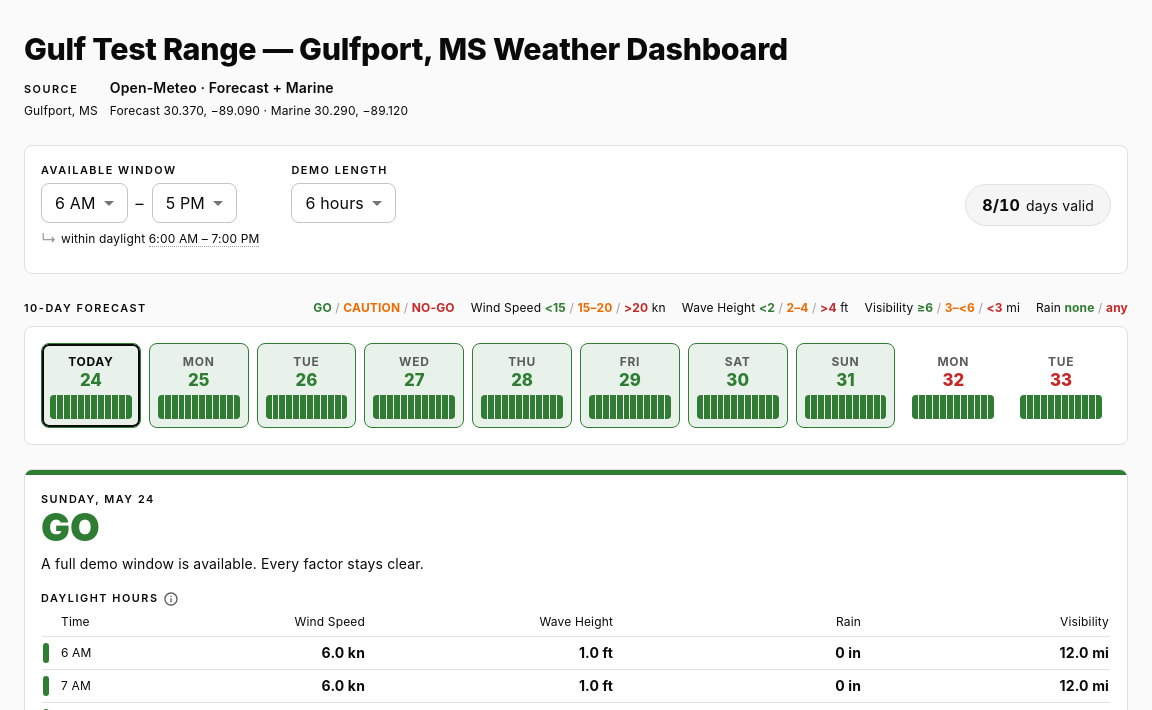
Scenario: Dashboard (via App) › defaults the detail to the first day and switches when another day is clicked
Expected: the text "Sunday, May 24" is shown, [41,492,155,506]
Click the button "TUE 26" at [306, 385], box [257,343,356,428]
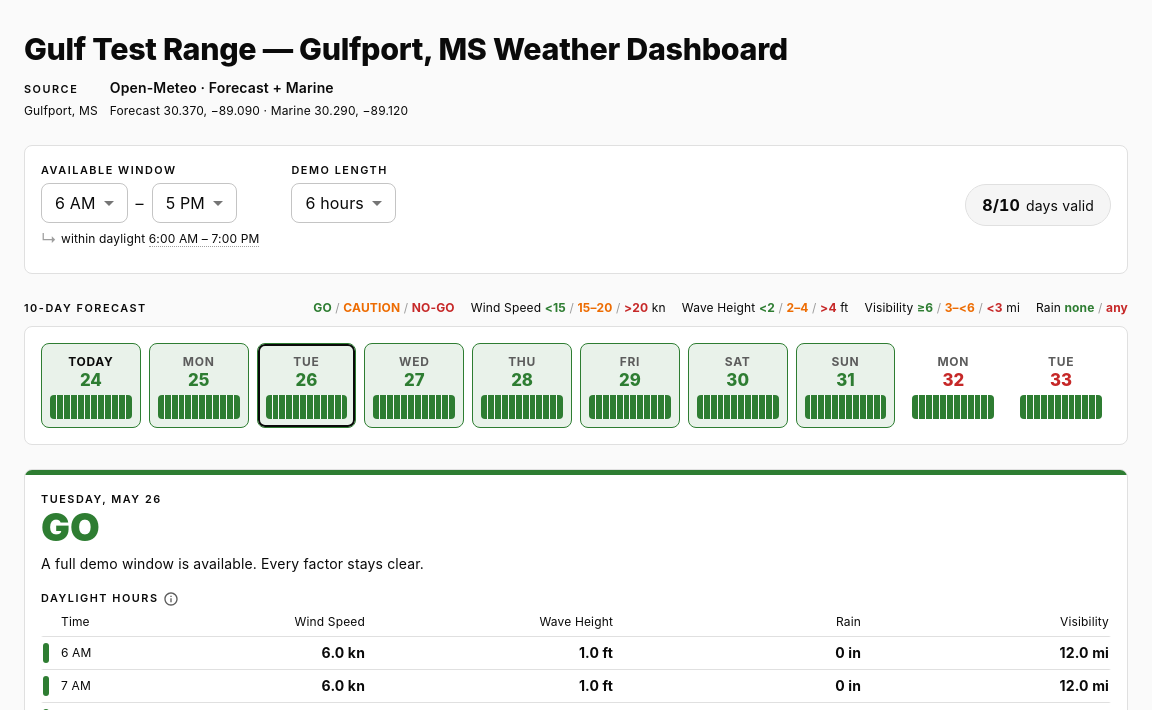
Expected: the text "Tuesday, May 26" is shown, [41,492,162,506]
